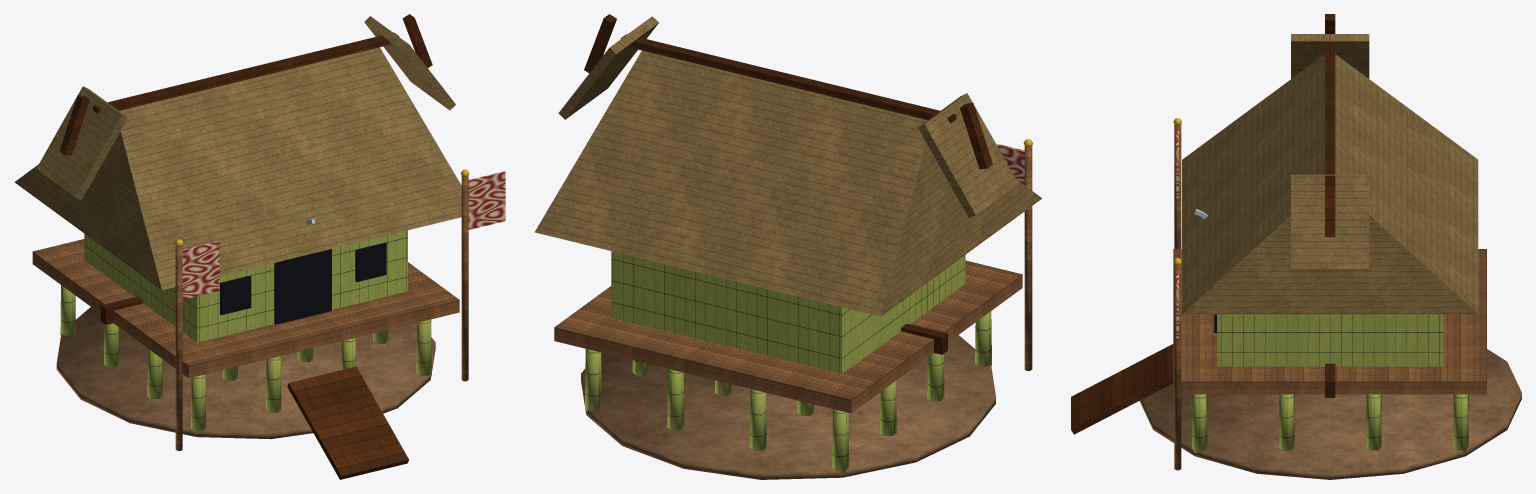
Rendered from tc_sunda.glb.
The picture shows the model from 3 angles, left to right: view 1: azimuth 30°, elevation 25°; view 2: azimuth 150°, elevation 25°; view 3: azimuth 270°, elevation 25°; orthographic projection. The views are drawn at different scales.
Visible parts, largest first — view 1: tc_sunda; view 2: tc_sunda; view 3: tc_sunda.
Boxes of the visible parts, <box> form: tc_sunda: <box>14,14,505,479</box>; tc_sunda: <box>535,14,1042,479</box>; tc_sunda: <box>1071,14,1521,479</box>.
Bounding box in the file's own units: 5.06 × 4.09 × 5.17.
Materials: 9 (6 with a texture image).
